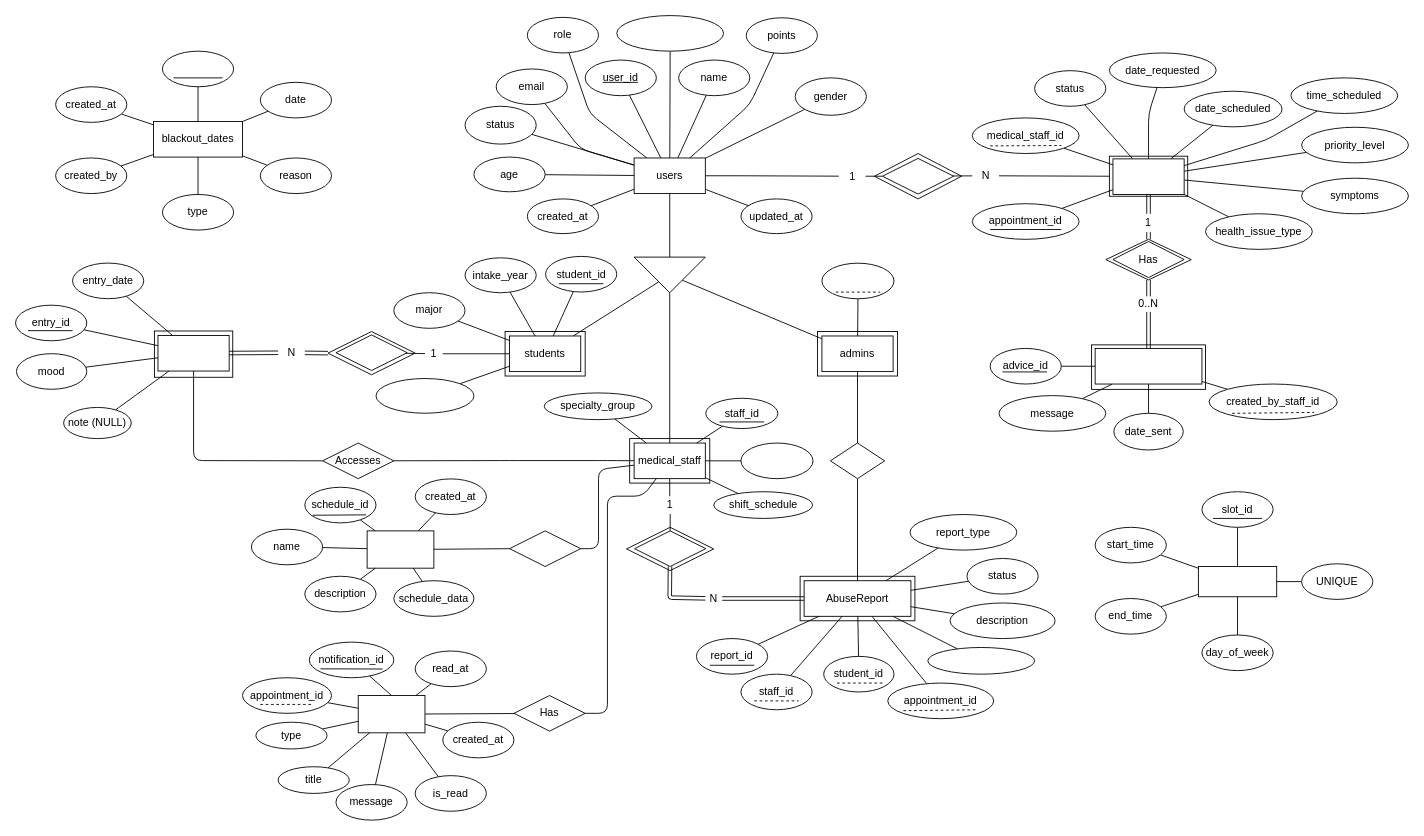
This 1424x836 diagram has some shape labels left out. The shapes that lost their labels are listed below. From the top down, each one's centre as x and y in pixels, then its label:
At pixel 670 33: "password_harsh".
At pixel 198 68: "blackout_id".
At pixel 918 176: "Has/Create".
At pixel 1148 176: "appointments".
At pixel 669 274: "Is A".
At pixel 857 280: "admin_id".
At pixel 193 353: "mood_entries".
At pixel 371 352: "Submits".
At pixel 1148 366: "temporary_advice".
At pixel 424 395: "housing_location".
At pixel 776 460: "specialty".
At pixel 857 460: "View".
At pixel 400 549: "schedules".
At pixel 545 548: "Works on".
At pixel 670 548: "Creates".
At pixel 1237 581: "time_slots".
At pixel 981 660: "report_date".
At pixel 391 714: "notifications".
